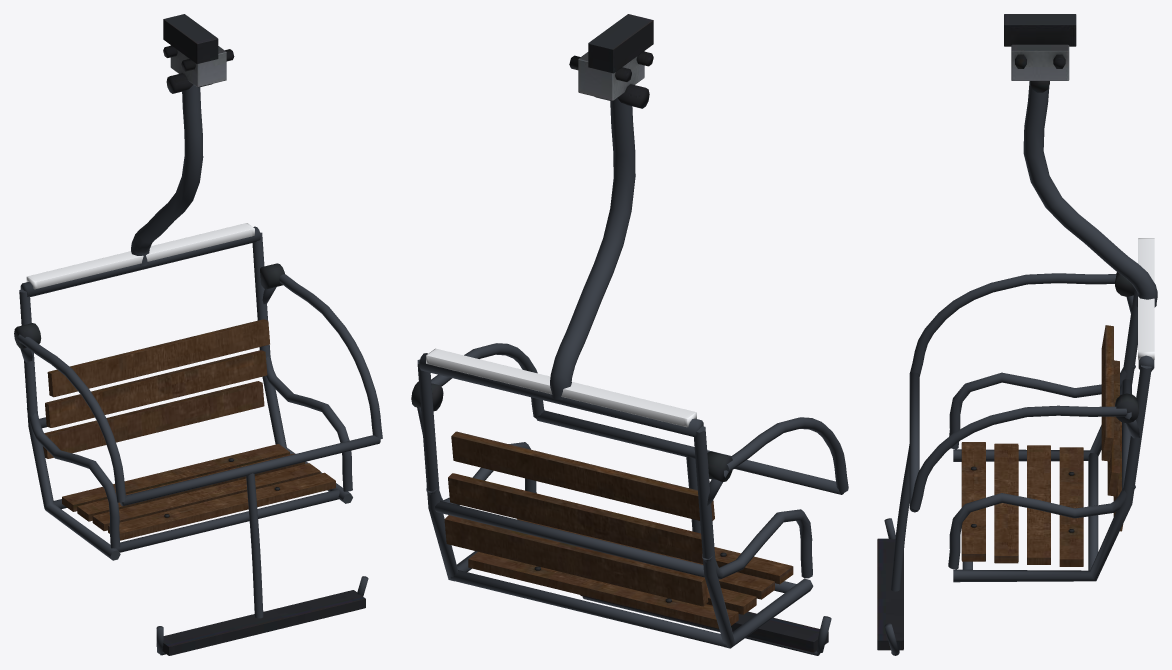
The model's file is chair2.glb.
The picture shows the model from 3 angles, left to right: view 1: azimuth 30°, elevation 25°; view 2: azimuth 150°, elevation 25°; view 3: azimuth 270°, elevation 25°; orthographic projection. The views are drawn at different scales.
Parts seen in each view (by area): view 1: chair2, chair2_paint, chair2_snow; view 2: chair2, chair2_paint, chair2_snow; view 3: chair2_paint, chair2, chair2_snow.
Boxes of the visible parts, x1,y1,x2,y2 form: chair2: (14,14,365,655); chair2_paint: (17,84,382,655); chair2_snow: (26,223,254,289); chair2: (411,14,828,652); chair2_paint: (417,98,848,655); chair2_snow: (426,348,696,427); chair2_paint: (884,81,1157,655); chair2: (877,14,1138,650); chair2_snow: (1138,238,1154,359).
Bounding box in the file's own units: 1.34 × 2.68 × 1.16.
Materials: 3 (1 with a texture image).
